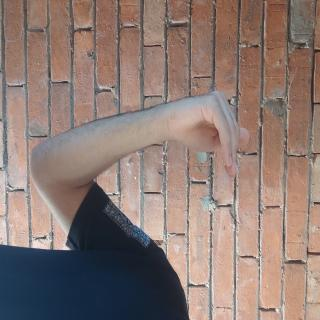KHAA: (61, 84, 135, 208)
